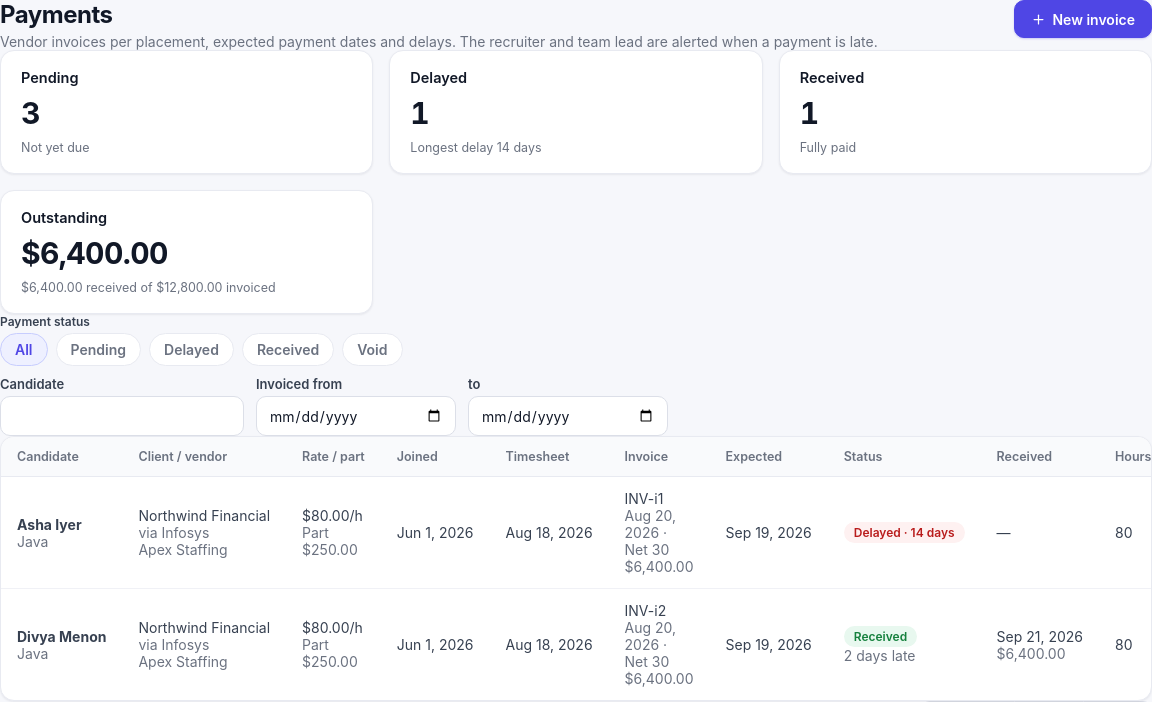
Payments dashboard › raises an invoice on a joined placement with an Idempotency-Key and shows the expected date
Step 1. Click the button "New invoice" → (1083, 19), box top-left (1014, 0), bottom-right (1151, 38)
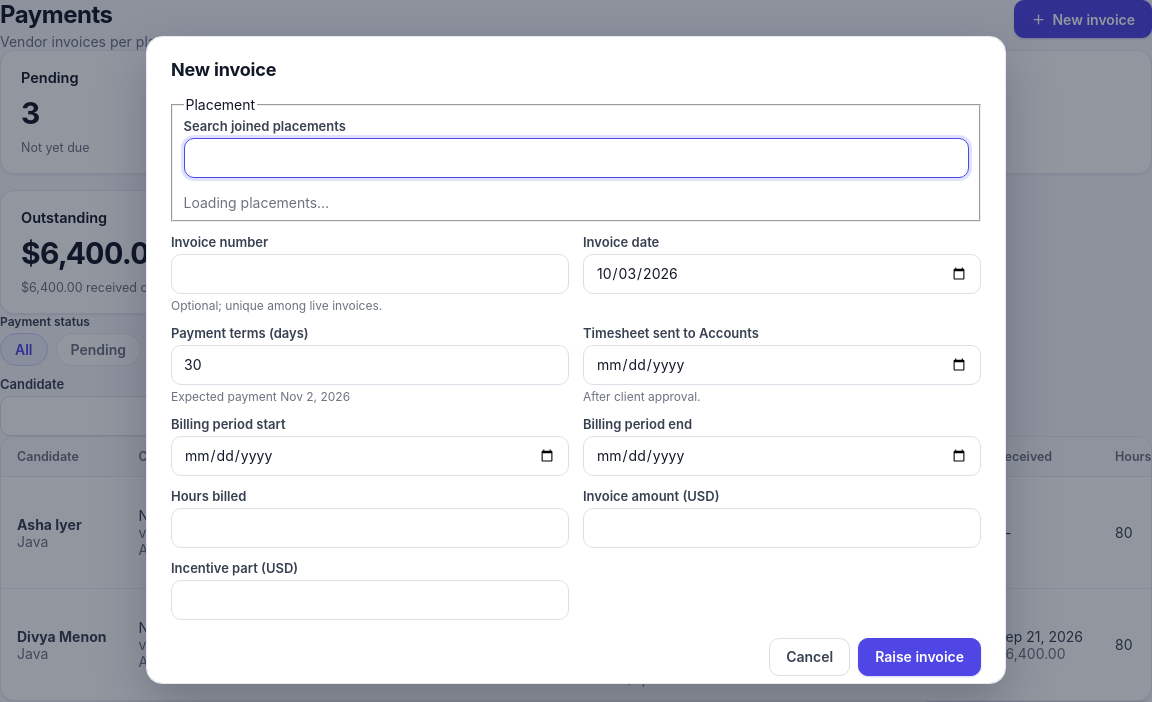
Step 2. Click the button "Raise invoice" → (920, 657), box top-left (858, 638), bottom-right (981, 676)
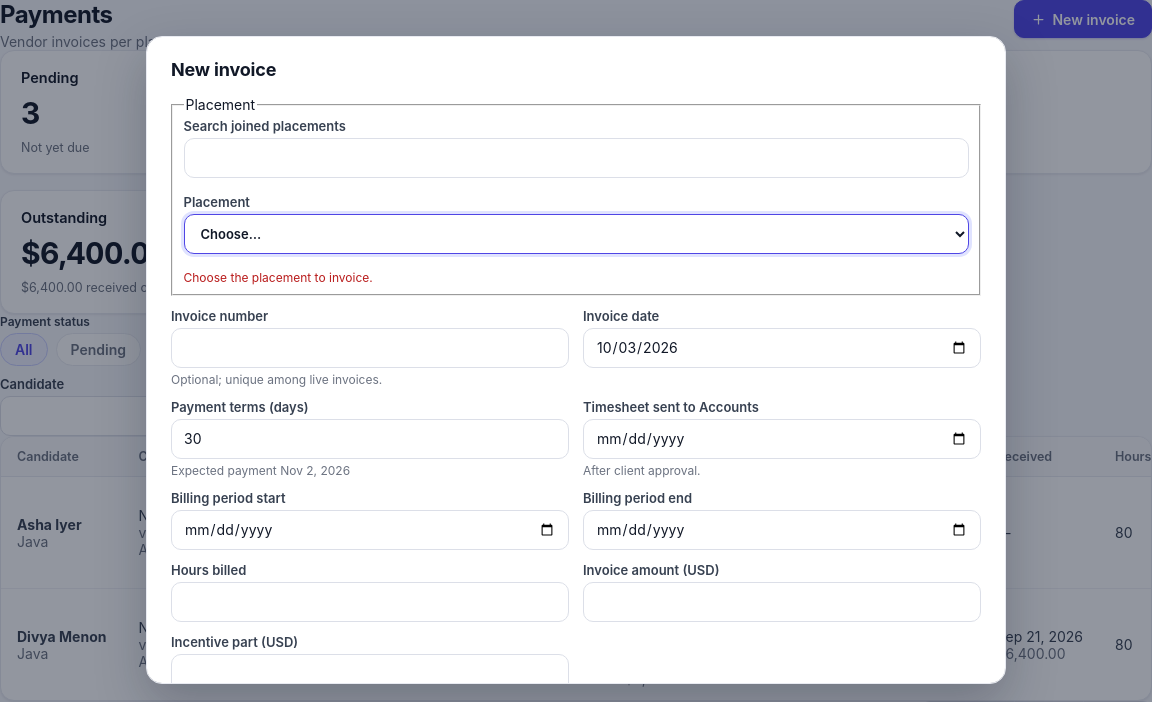
Expected: the text "Choose the placement to invoice." is shown, top-left (184, 270), bottom-right (373, 285)
Step 3. Select "Kiran Rao · Northwind Financial · joined Jul 1, 2026" in the dropdown labelled "Placement" → (576, 234), box top-left (184, 214), bottom-right (968, 254)
Step 4. Type "2026-10-01" into the date field labelled "Invoice date" → (782, 348), box top-left (583, 328), bottom-right (981, 368)
Step 5. Replace the text in the number field labelled "Payment terms (days)" with "45" → (370, 439), box top-left (171, 419), bottom-right (569, 459)
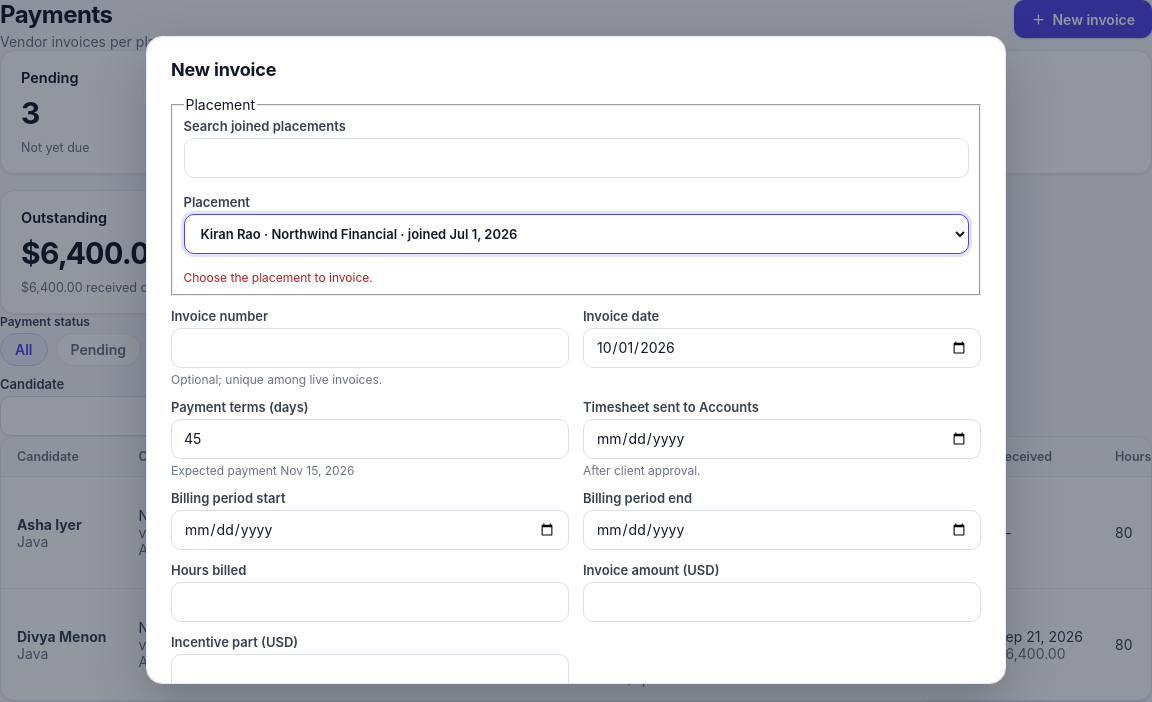
Expected: the text "Expected payment Nov 15, 2026" is shown, top-left (171, 463), bottom-right (354, 478)
Step 6. Type "6000.5" into the number field labelled "Invoice amount (USD)" → (782, 602), box top-left (583, 582), bottom-right (981, 622)
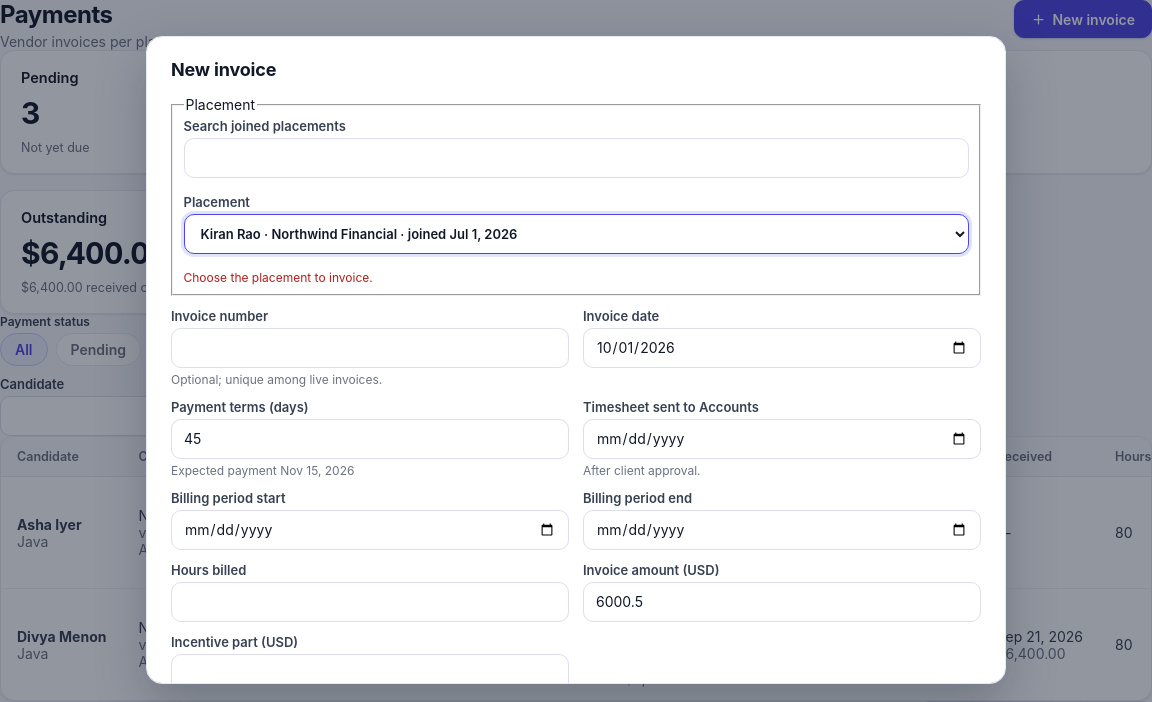
Step 7. Type "INV-77" into the field labelled "Invoice number" → (370, 348), box top-left (171, 328), bottom-right (569, 368)
(page scrolled)
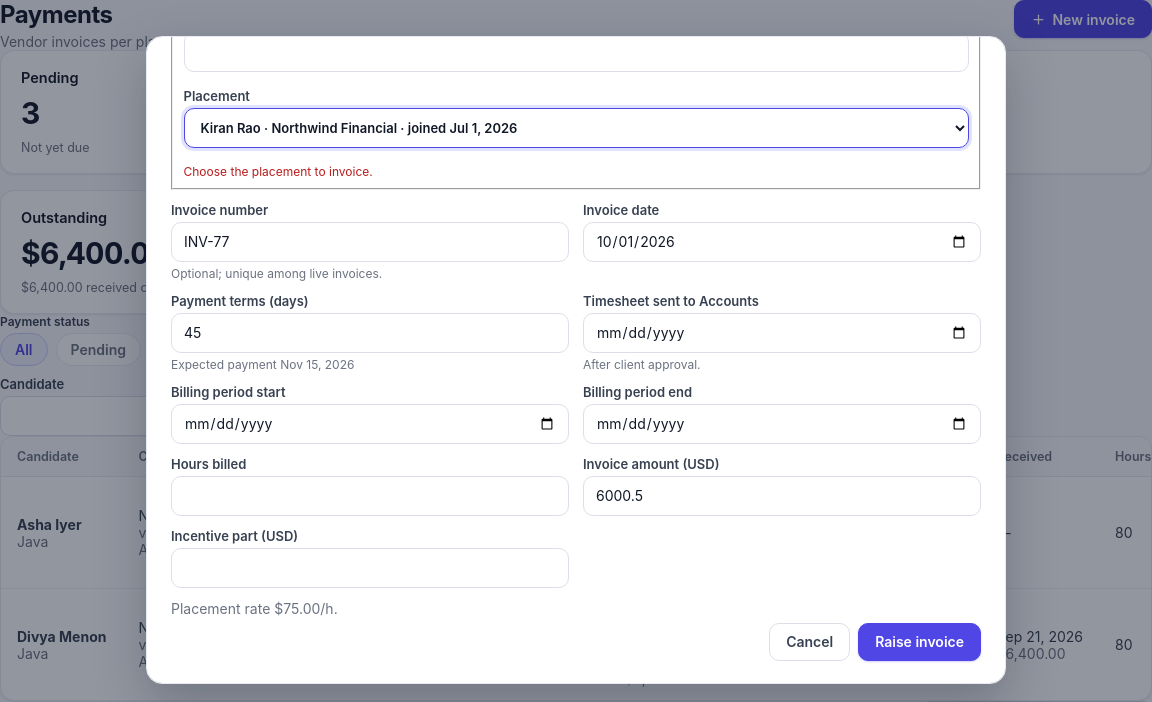
Step 8. Click the button "Raise invoice" → (920, 642), box top-left (858, 623), bottom-right (981, 661)
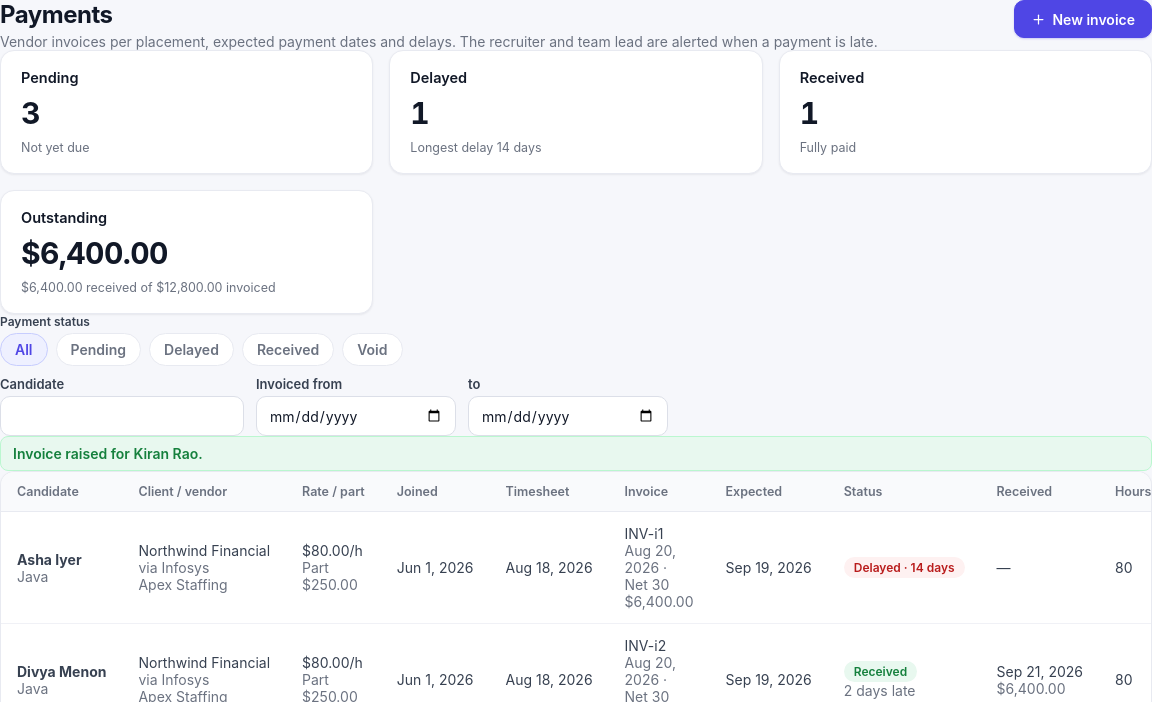
Expected: the text "Invoice raised for Kiran Rao." is shown, top-left (0, 436), bottom-right (1151, 471)
